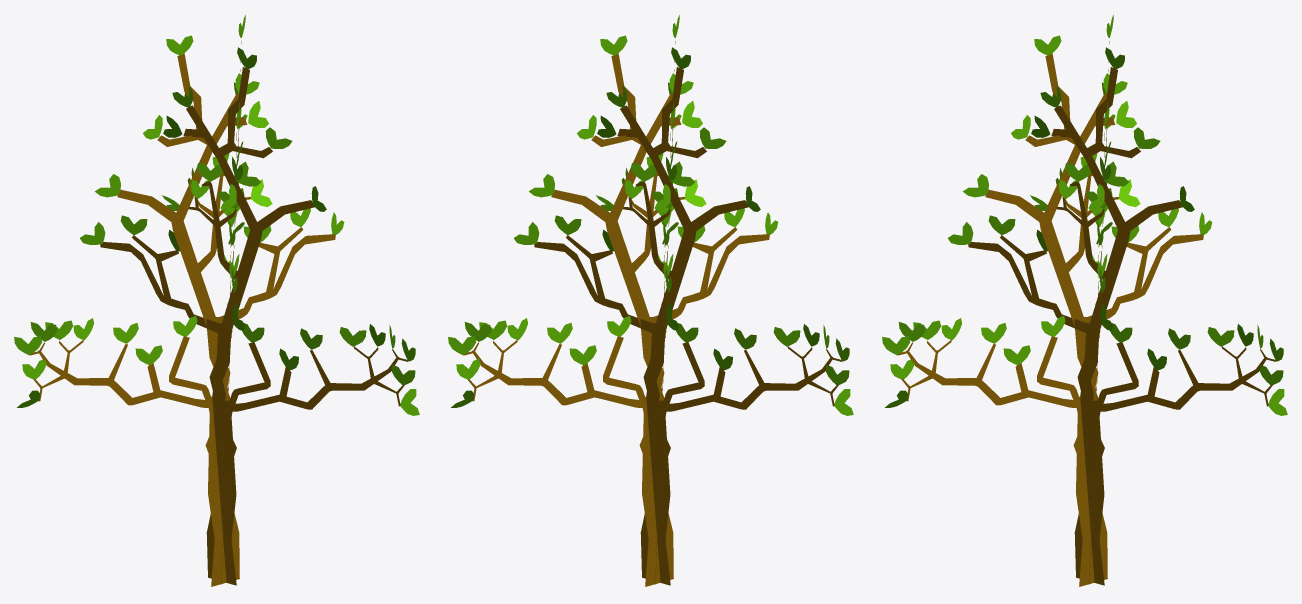
The picture shows the model from 3 angles, left to right: view 1: azimuth 30°, elevation 25°; view 2: azimuth 150°, elevation 25°; view 3: azimuth 270°, elevation 25°; orthographic projection.
Visible parts, largest first — view 1: trunk, leaves; view 2: trunk, leaves; view 3: trunk, leaves.
Boxes of the visible parts, bbox=[...] form: trunk: bbox=[29, 41, 407, 586]; leaves: bbox=[14, 15, 419, 415]; trunk: bbox=[463, 41, 841, 586]; leaves: bbox=[448, 15, 853, 415]; trunk: bbox=[897, 41, 1275, 586]; leaves: bbox=[882, 15, 1287, 415].
Bounding box in the file's own units: 755 × 1182 × 794.
